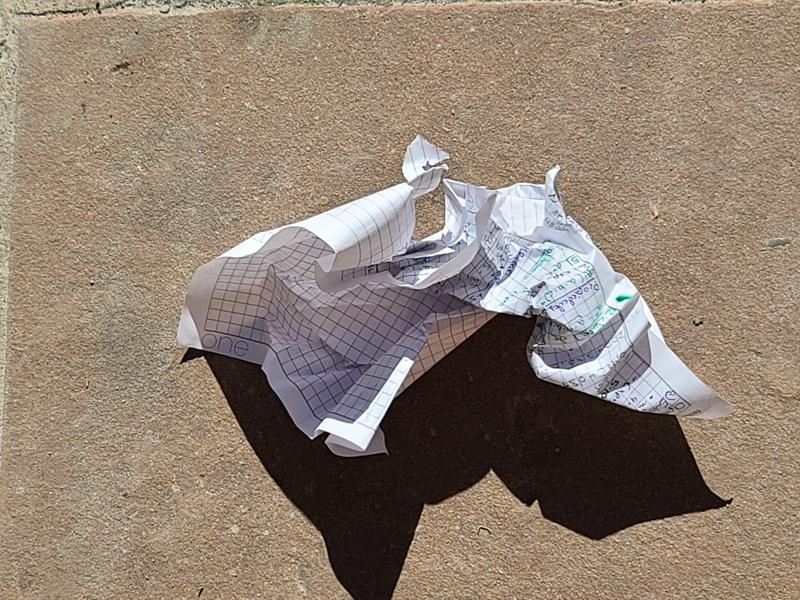papel: (177, 139, 730, 460)
